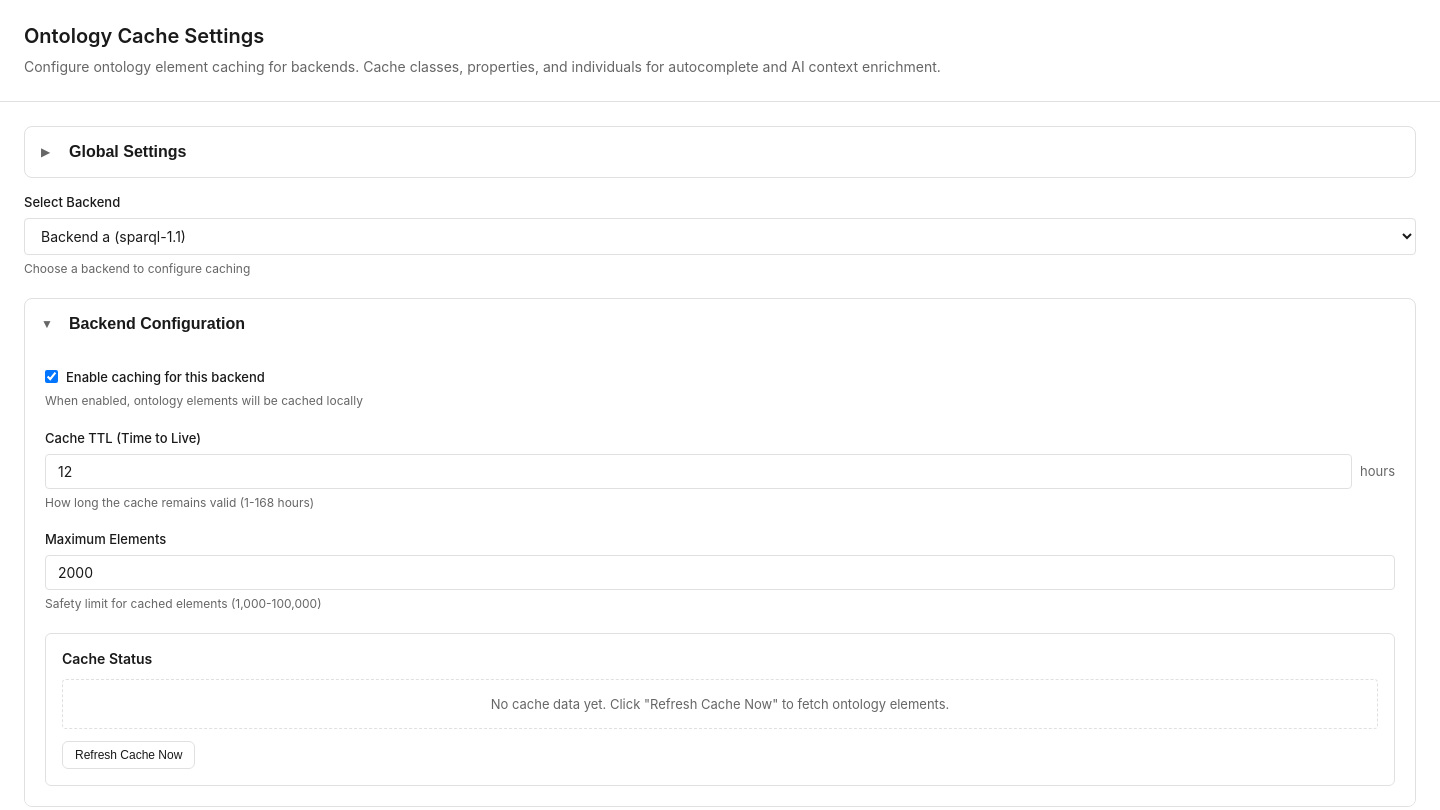
Test: CacheSettingsView - backend configuration › switches backends and resets form values
Expected: the number field with id "cache-ttl" is shown, [45, 454, 1352, 489]
Select "Backend b (sparql-1.1)" in the dropdown with id "backend-select": (720, 236) [24, 218, 1416, 255]
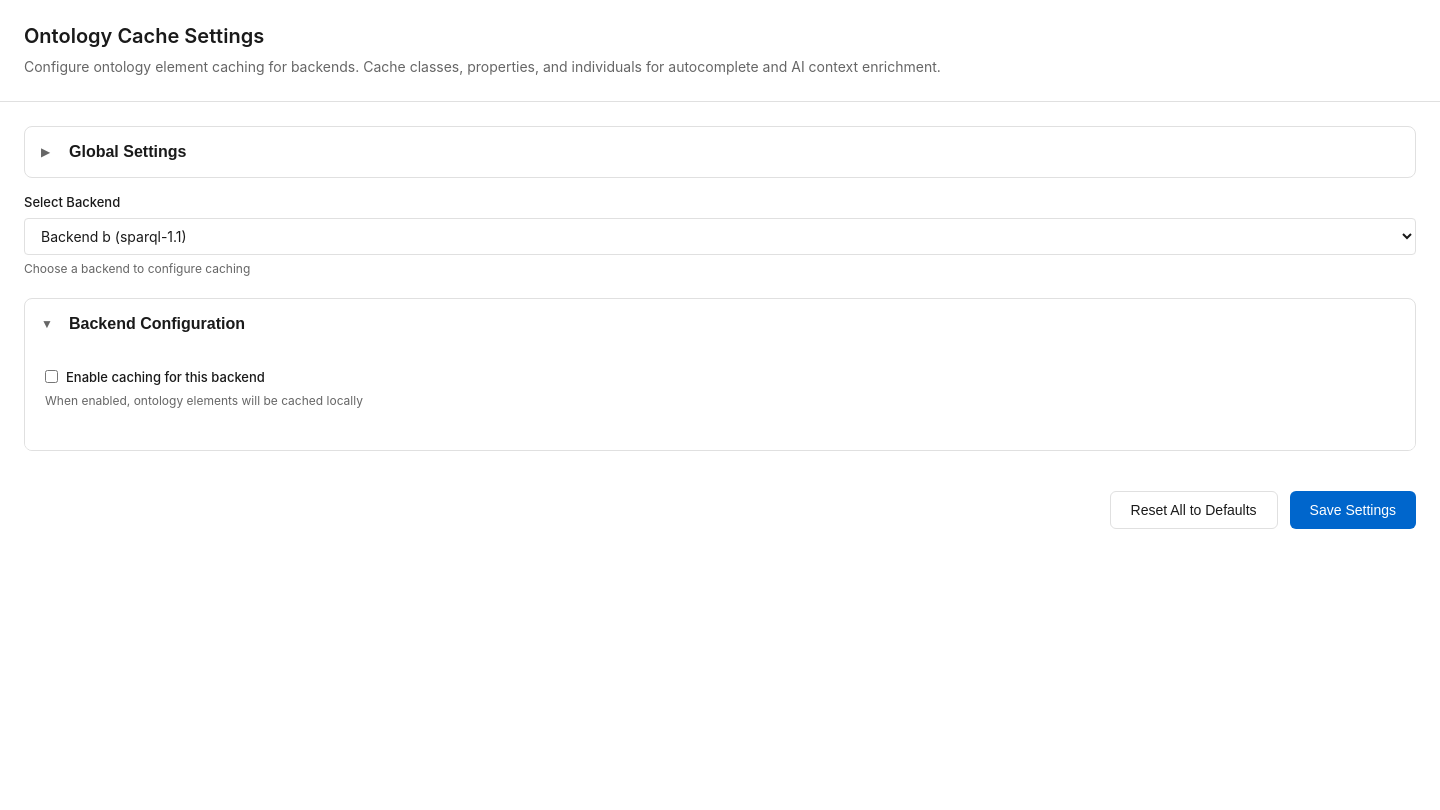
Select "-- Select a backend --" in the dropdown with id "backend-select": (720, 236) [24, 218, 1416, 255]
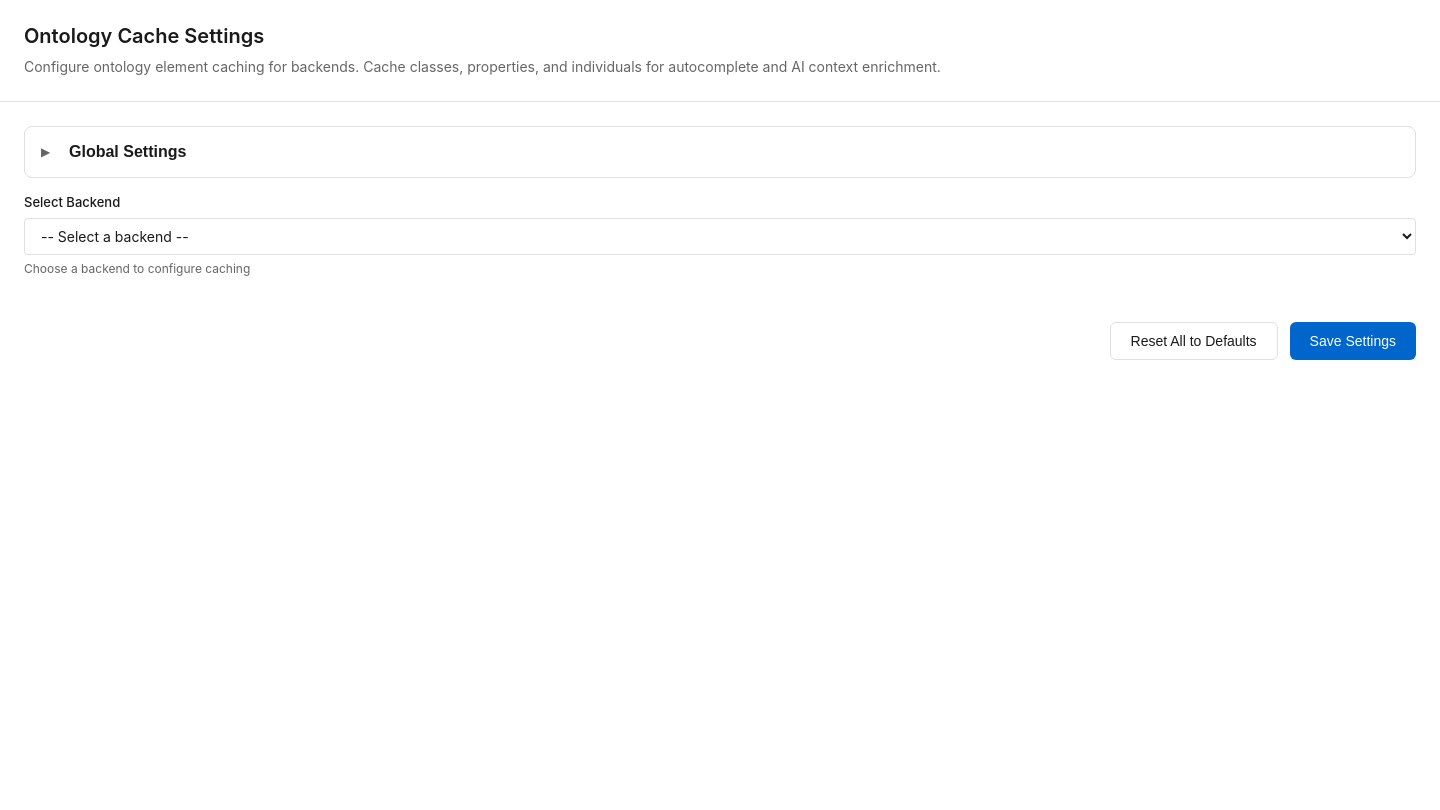
Now the text "Backend Configuration" is gone
